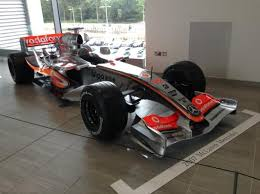f1_car: (6, 24, 242, 167)
